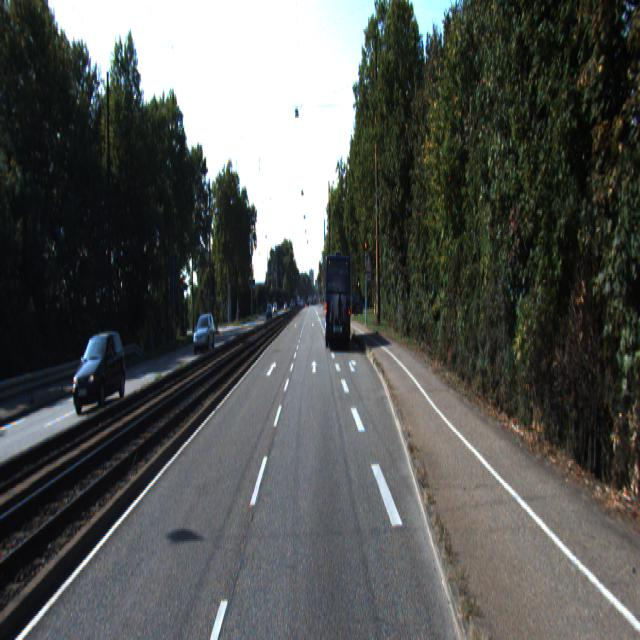Car: (72, 332, 128, 416), (325, 253, 353, 351), (191, 313, 216, 358)
